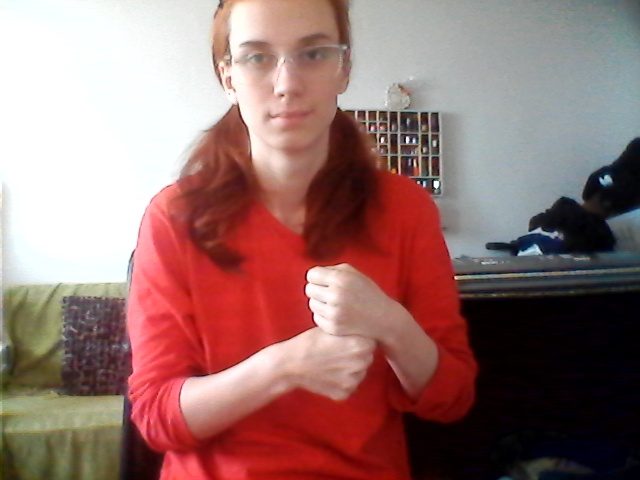g: (282, 261, 393, 410)
